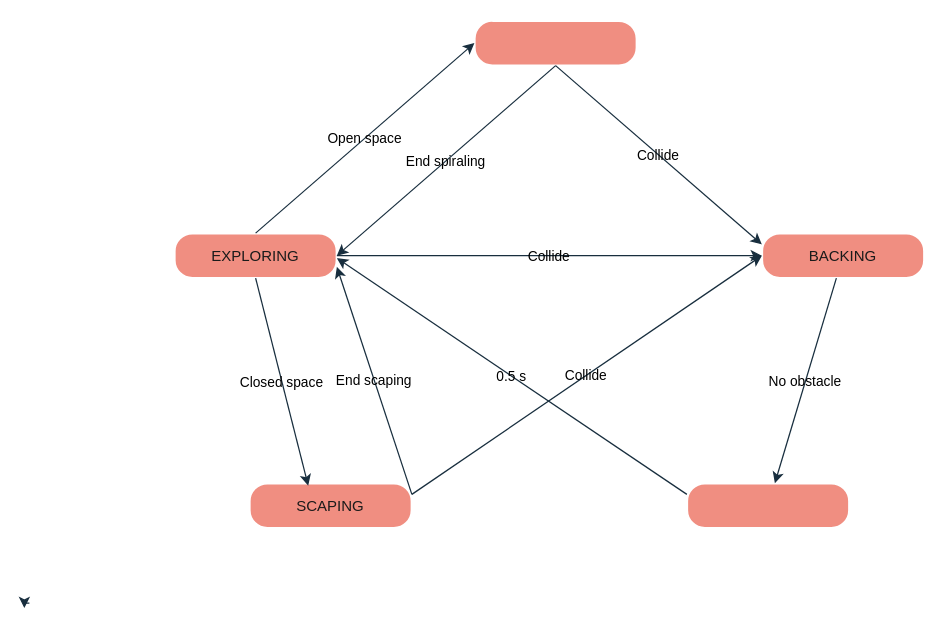
This 945x628 diagram has some shape labels left out. The centre of each missing label's shape, as x and y in pixels:
"SPIRALING" goes at point (555, 42).
"TURNING" goes at point (767, 505).
